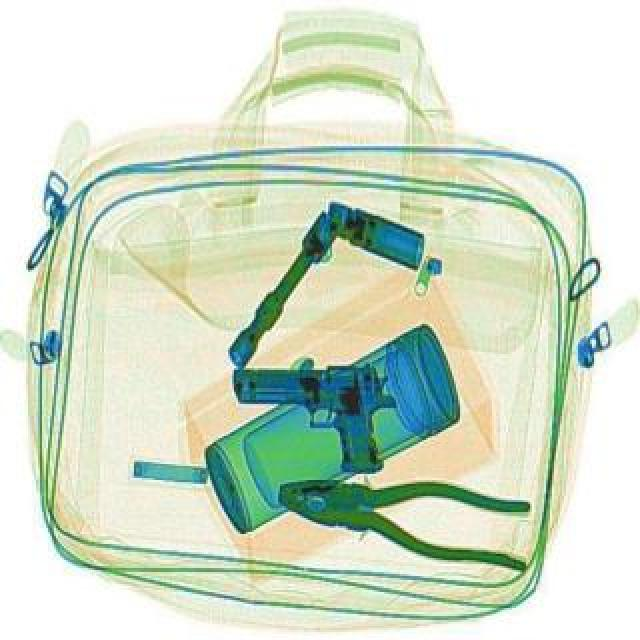gun: (230, 360, 398, 468)
wrench: (270, 454, 538, 572)
